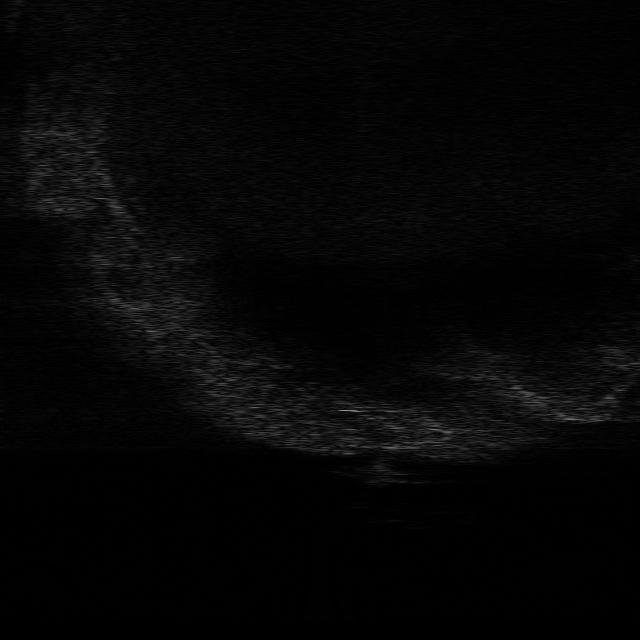plane: (334, 460, 425, 488)
